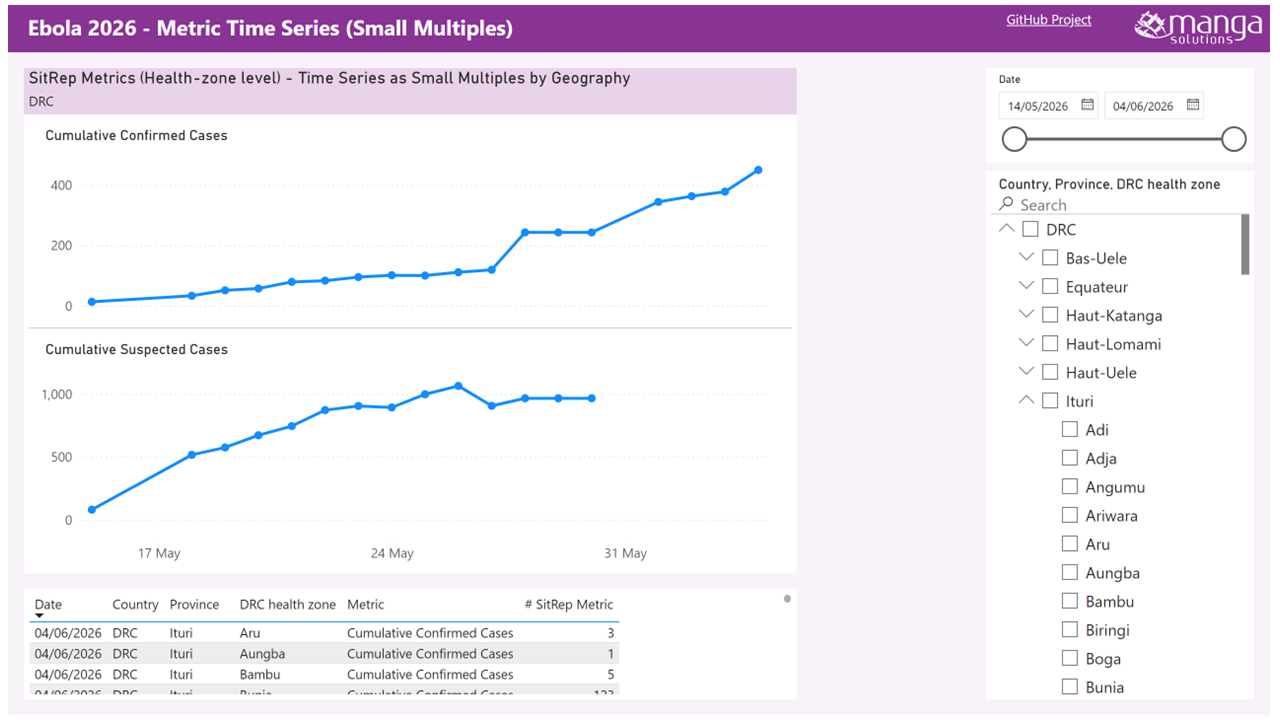

Layout of this report page (visuals, bound fields, positions):
{"tool":"powerbi","page":{"name":"Metric Time Series (Small Multiples)","canvas":[1280,720],"ordinal":1},"visuals":[{"type":"textbox","box":[0,0,1280,48],"z":0},{"type":"textbox","box":[992,0,112,32],"z":1000},{"type":"lineChart","title":"SitRep Metrics (Health-zone level) - Time Series as Small Multiples by Geography","fields":{"Category":["Dates.Date"],"Rows":["SitRep Metrics.Metric"],"Y":["SitRep Metrics.# SitRep Metric"]},"box":[16,64,784,512],"z":2000},{"type":"slicer","fields":{"Values":["Dates.Date"]},"box":[992,64,272,96],"z":4000},{"type":"tableEx","fields":{"Values":["Dates.Date","DRC Health Zones.Country","DRC Health Zones.Province","DRC_Health_zones.DRC health zone","SitRep Metrics.Metric","SitRep Metrics.# SitRep Metric"]},"box":[16,592,784,112],"z":6000},{"type":"slicer","fields":{"Values":["DRC Health Zones.Country","DRC Health Zones.Province","DRC Health Zones.DRC health zone"]},"box":[992,168,272,536],"z":8000},{"type":"image","box":[1136,0,144,48],"z":10000}]}

Visuals, with their boxes on the page's 1280x720 design canvas (x1, y1, x2, y2). These are canvas units, not pixel positions in the 1280x720 screenshot, which may show the page scaled, cropped or inside an application window:
textbox: [x1=0, y1=0, x2=1280, y2=48]
textbox: [x1=992, y1=0, x2=1104, y2=32]
"SitRep Metrics (Health-zone level) - Time Series as Small Multiples by Geography" lineChart: [x1=16, y1=64, x2=800, y2=576]
slicer - Dates.Date: [x1=992, y1=64, x2=1264, y2=160]
tableEx - Dates.Date x DRC Health Zones.Country: [x1=16, y1=592, x2=800, y2=704]
slicer - DRC Health Zones.Country x DRC Health Zones.Province: [x1=992, y1=168, x2=1264, y2=704]
image: [x1=1136, y1=0, x2=1280, y2=48]
